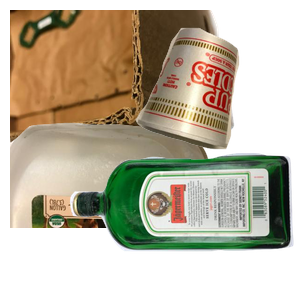cardboard: (10, 10, 237, 158)
glass: (67, 150, 300, 300)
plastic: (10, 120, 220, 300)
trash: (133, 25, 300, 167)
